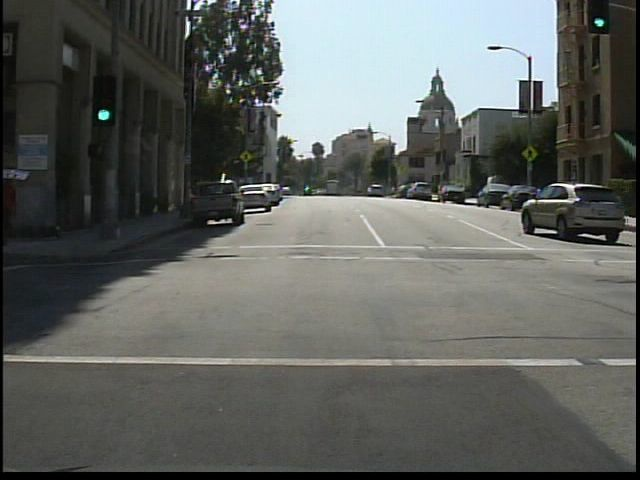person: (1, 160, 16, 247)
